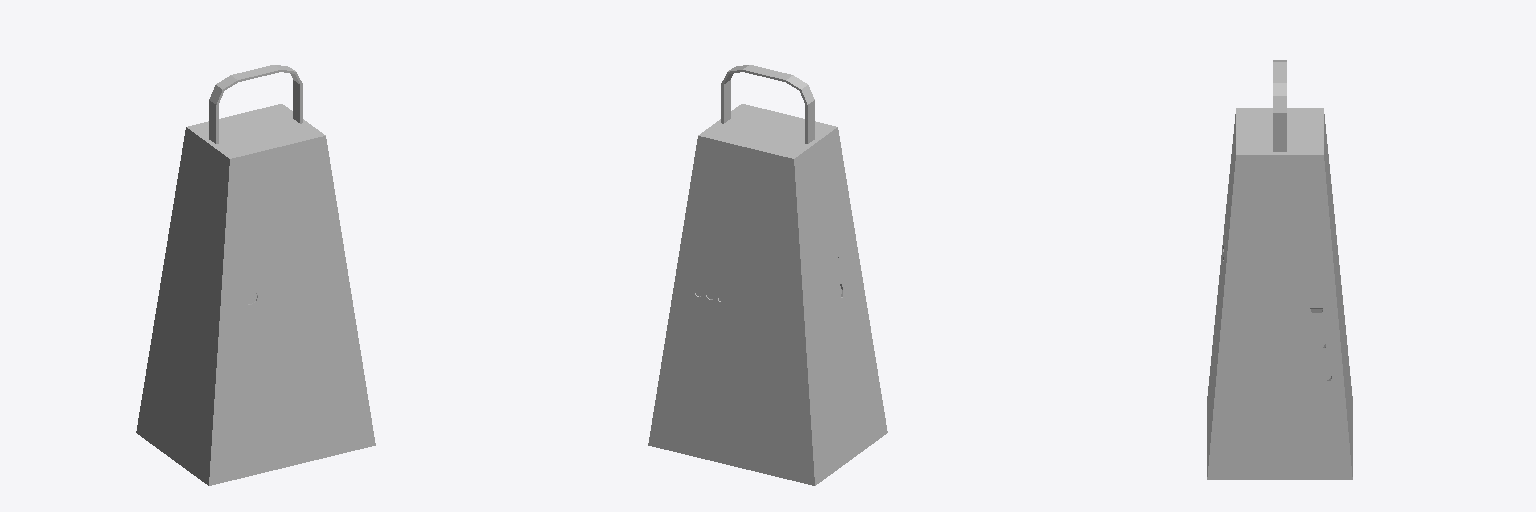
The model's file is cutensils_box_grater.obj.
The picture shows the model from 3 angles: view 1: azimuth 30°, elevation 25°; view 2: azimuth 150°, elevation 25°; view 3: azimuth 270°, elevation 25°; orthographic projection.
Parts seen in each view (by area): view 1: cutensils_box_grater_Cube.132; view 2: cutensils_box_grater_Cube.132; view 3: cutensils_box_grater_Cube.132.
Part boxes in pixels (bbox=[...]): cutensils_box_grater_Cube.132: bbox=[136, 65, 375, 485]; cutensils_box_grater_Cube.132: bbox=[648, 65, 887, 485]; cutensils_box_grater_Cube.132: bbox=[1207, 60, 1352, 479].
Size of the model in its own units: 2.59 by 5.44 by 1.95.